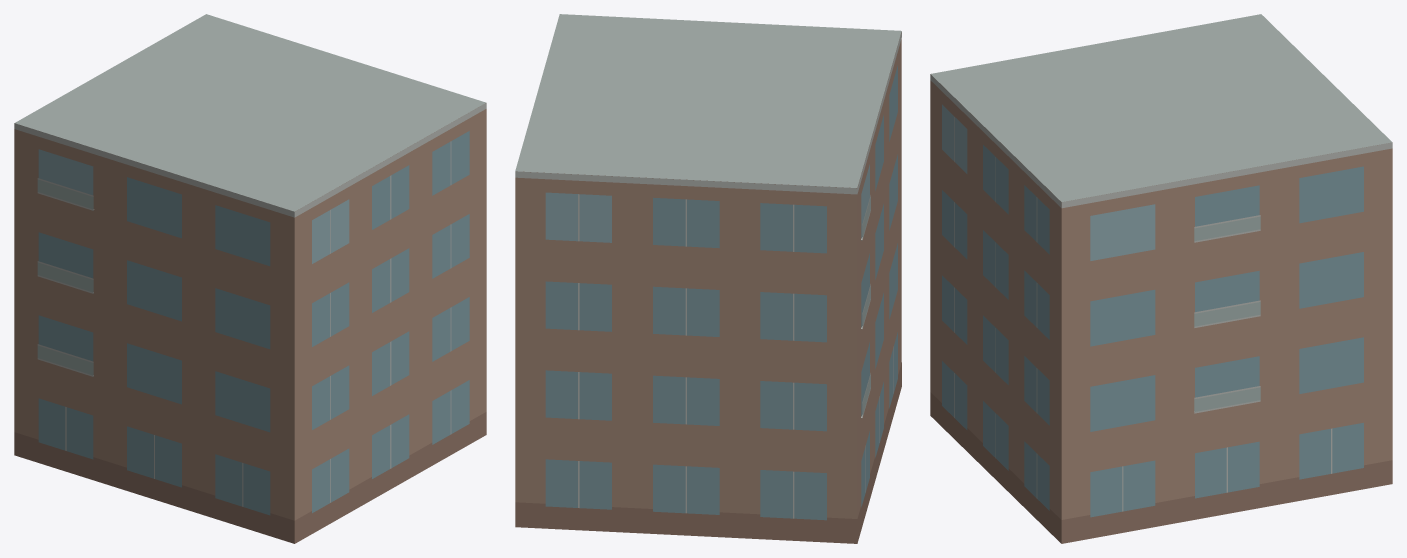
Rendered from survey-upis-32808597.glb.
The picture shows the model from 3 angles, left to right: view 1: azimuth 30°, elevation 25°; view 2: azimuth 150°, elevation 25°; view 3: azimuth 270°, elevation 25°; orthographic projection. The views are drawn at different scales.
Visible parts, largest first — view 1: survey-upis-32808597.tmp; view 2: survey-upis-32808597.tmp; view 3: survey-upis-32808597.tmp.
Part boxes in pixels (x1=…): survey-upis-32808597.tmp: x1=14, y1=14, x2=486, y2=543; survey-upis-32808597.tmp: x1=515, y1=14, x2=901, y2=543; survey-upis-32808597.tmp: x1=930, y1=14, x2=1392, y2=543.
Size of the model in its own units: 16.14 by 13.65 by 16.74.
